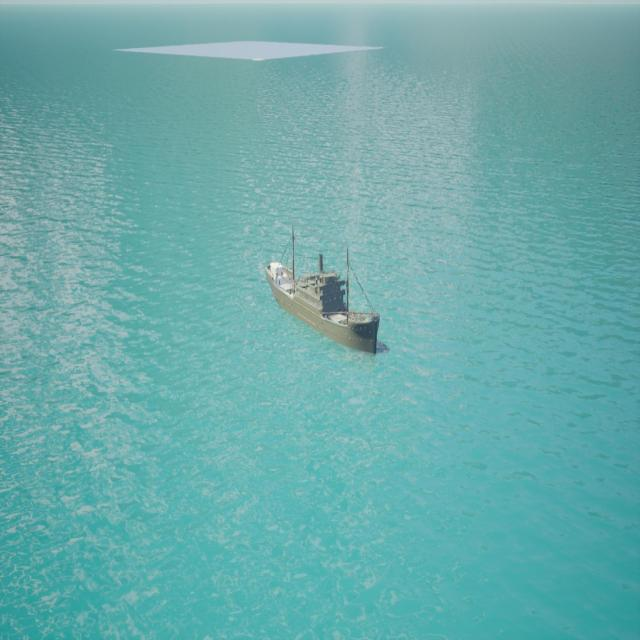fishing ship: (263, 252, 384, 357)
